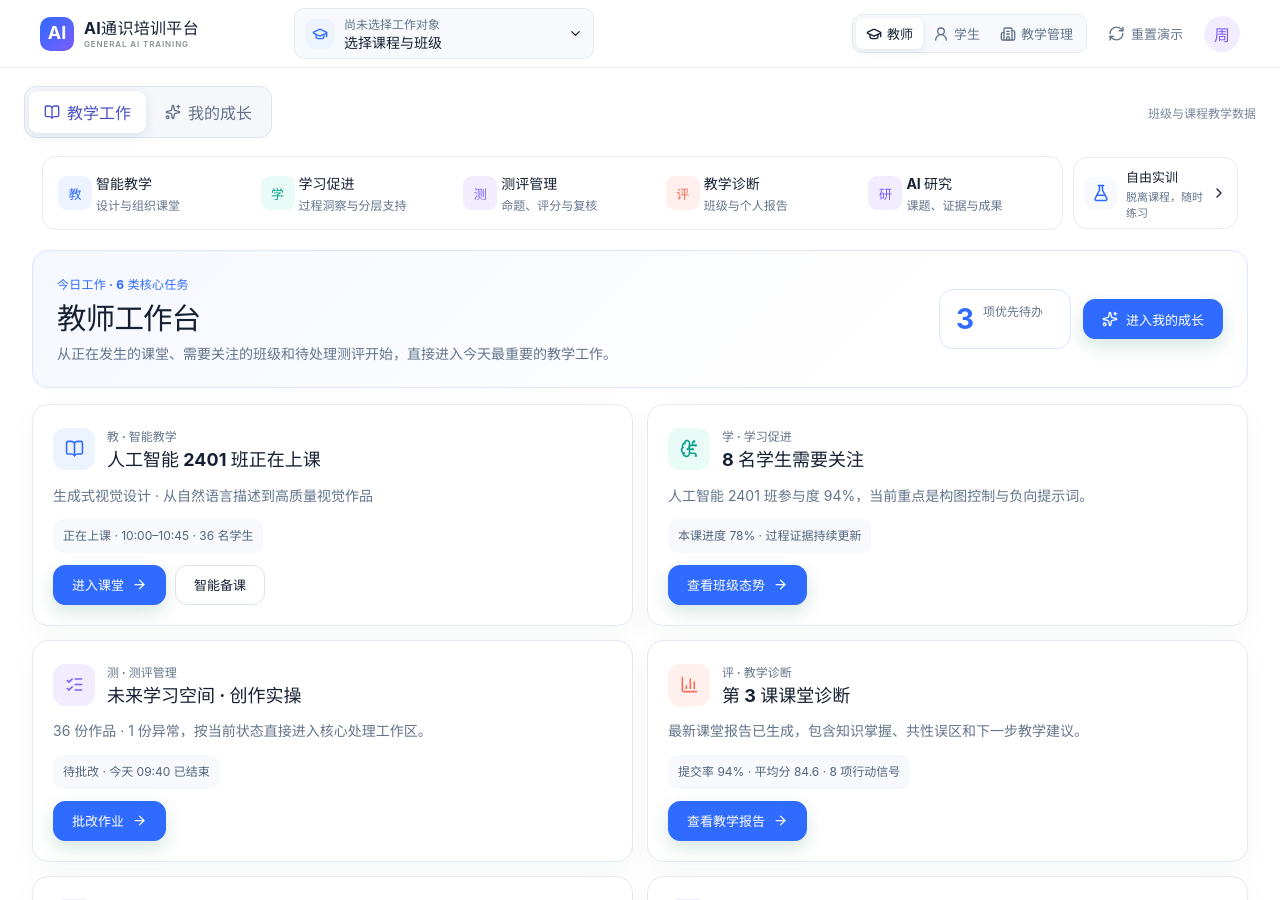
Test case: AI通识培训平台能力主线 › 教师 AI 能力无需班级上下文且保持唯一功能标题
The image size is (1280, 900).
Click the button "评 教学诊断 班级与个人报告": (755, 193) [656, 162, 854, 224]
(page scrolled)
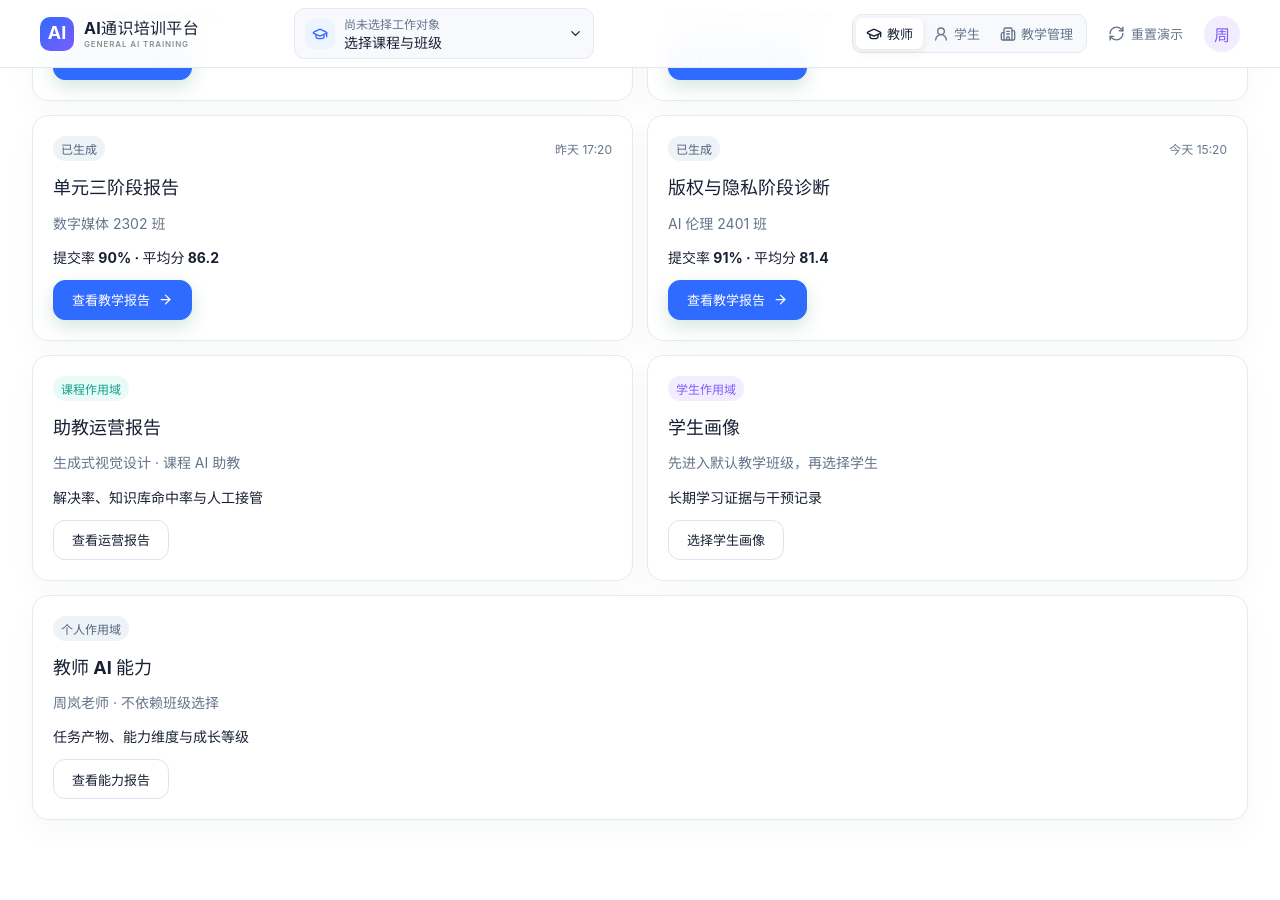
Click the button "查看能力报告": (111, 779) [53, 759, 169, 799]
(page scrolled)
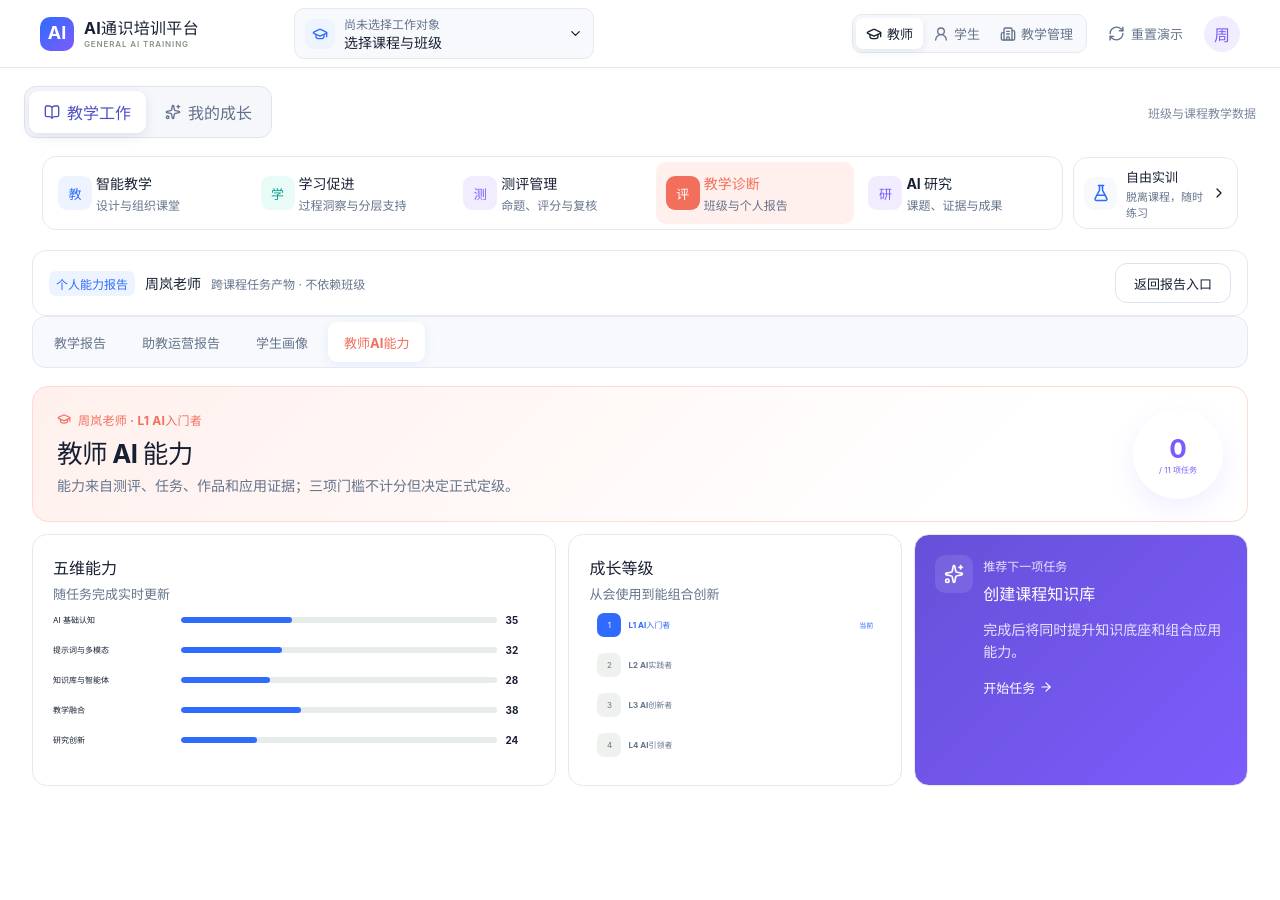
expect the heading "教师 AI 能力" is shown: met, box [57, 438, 193, 469]
expect the text "跨课程任务产物 · 不依赖班级" is shown: met, box [211, 274, 365, 292]
